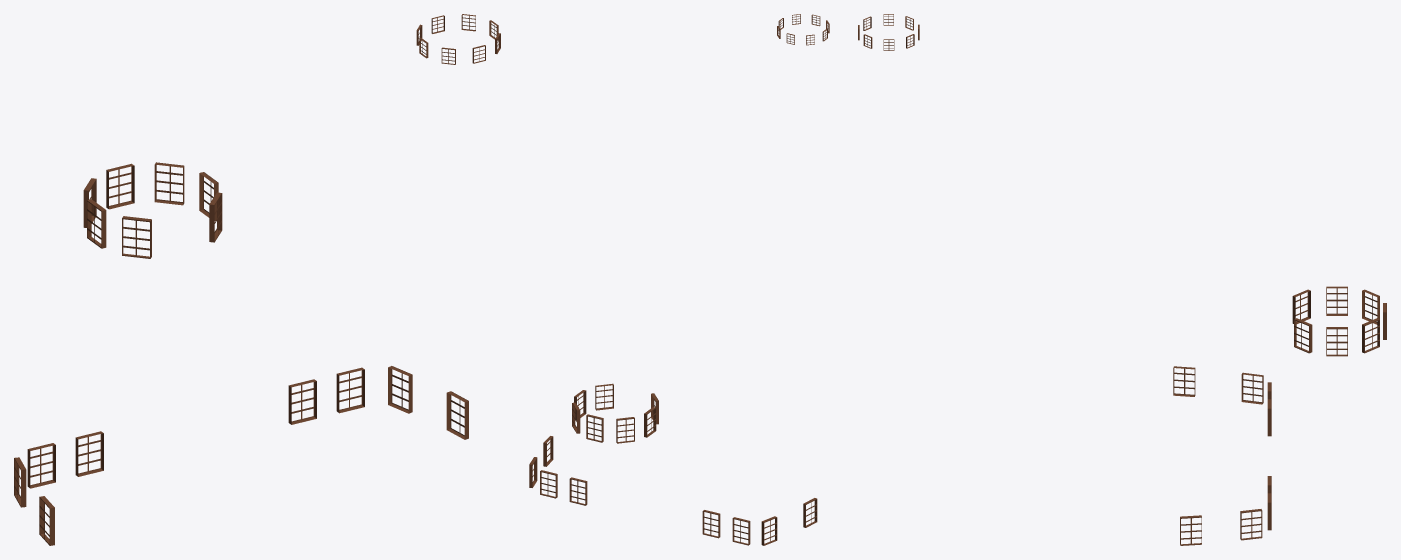
File: RejillaVentana.fbx
3 renders of one model, left to right at view 1: azimuth 30°, elevation 25°; view 2: azimuth 150°, elevation 25°; view 3: azimuth 270°, elevation 25°, orthographic. The views are drawn at different scales.
Parts seen in each view (by area): view 1: Barco.003; view 2: Barco.003; view 3: Barco.003.
Part boxes in pixels (x1,y1,x2,y2): Barco.003: (14, 14, 500, 545); Barco.003: (529, 14, 829, 545); Barco.003: (858, 14, 1386, 545).
Bounding box in the file's own units: 3581 × 4870 × 5248.
